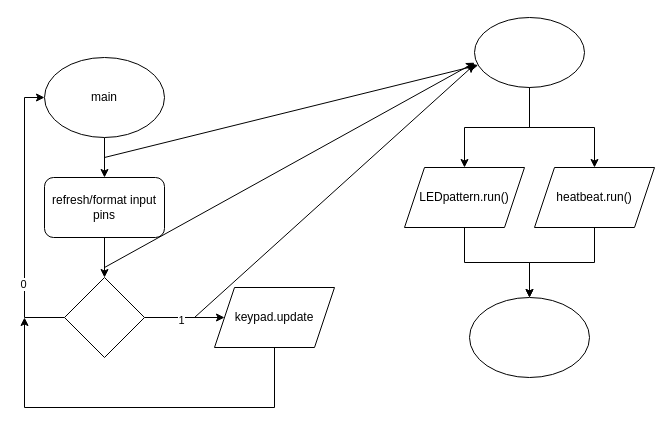
The diagram is 672 pixels wide and 433 high, and some of its shapes have lost their labels. Each missing label, with the centre of its shape:
"if input changed" goes at point 104,317.
"reti" goes at point 529,337.
"Timer Interrupts" goes at point 529,52.
